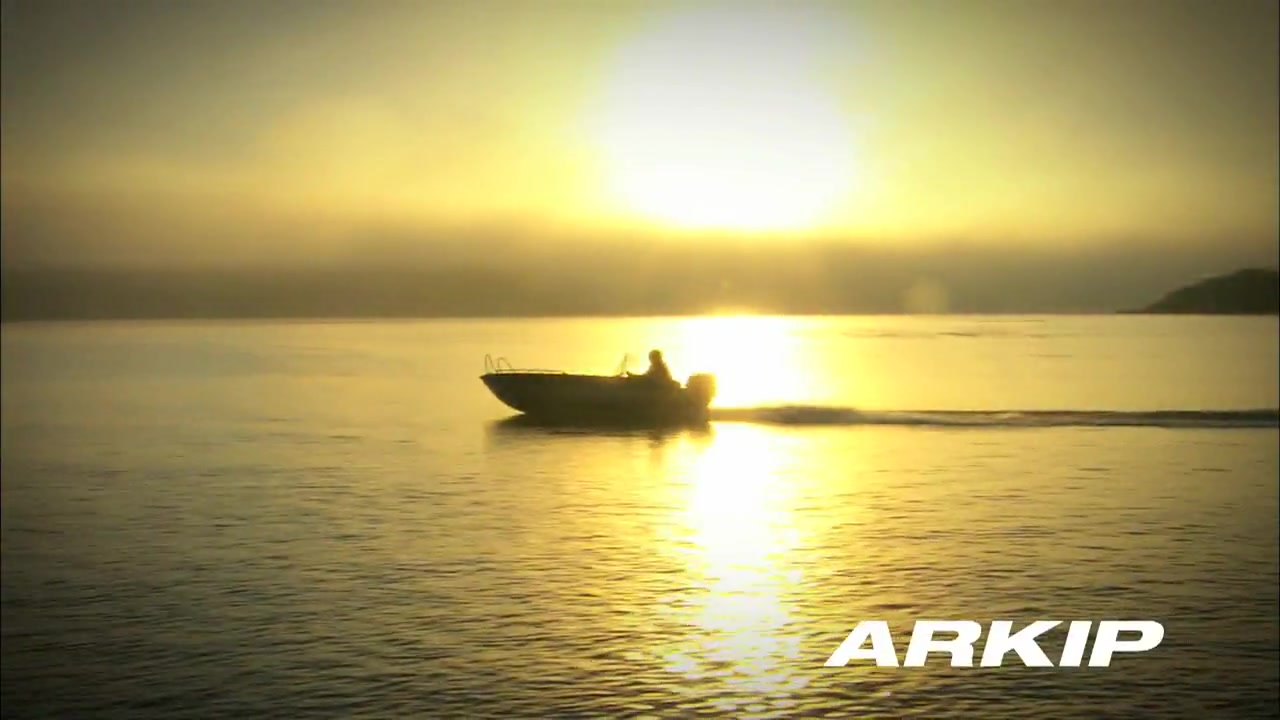boat: (470, 348, 718, 433)
